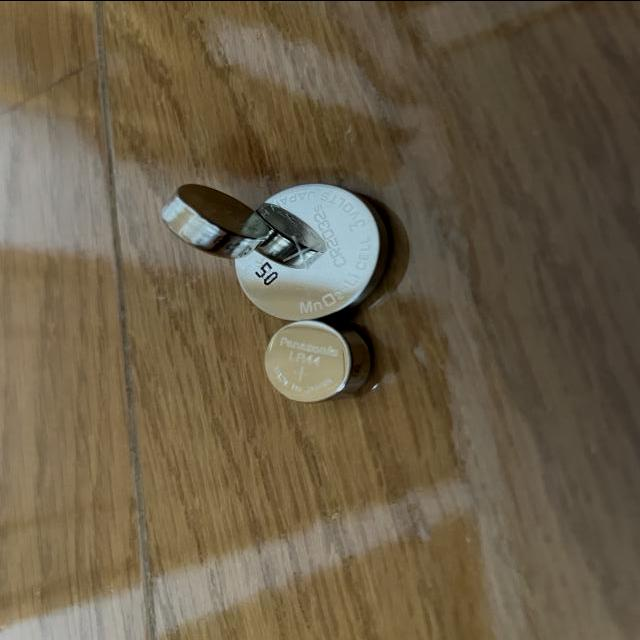COIN: (231, 181, 393, 322), (264, 316, 374, 405), (158, 179, 276, 261)
